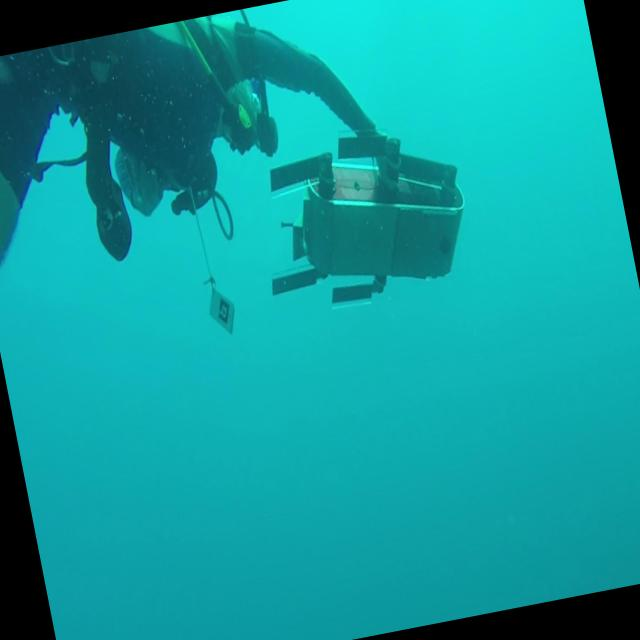human: (0, 0, 398, 295)
